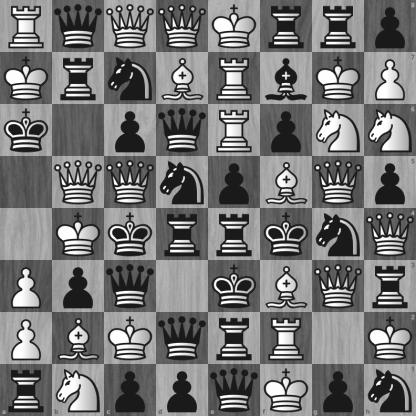B: (53, 313, 104, 364), (157, 53, 208, 104), (261, 157, 312, 208), (261, 261, 312, 312)
K: (260, 364, 312, 416), (364, 312, 416, 364), (1, 53, 52, 104), (53, 209, 104, 260), (105, 313, 156, 364), (209, 1, 260, 52), (313, 53, 364, 104)
N: (52, 364, 104, 416), (364, 104, 416, 156), (313, 105, 364, 156)
P: (364, 52, 416, 104), (1, 261, 52, 312), (1, 313, 52, 364)
Q: (364, 209, 416, 260), (53, 157, 104, 208), (105, 1, 156, 52), (105, 157, 156, 208), (157, 1, 208, 52), (313, 157, 364, 208), (313, 261, 364, 312)
R: (1, 1, 52, 52), (209, 53, 260, 104), (209, 105, 260, 156), (261, 313, 312, 364)
b: (261, 53, 312, 104)
board: (0, 0, 415, 415)
k: (1, 105, 52, 156), (105, 209, 156, 260), (209, 261, 260, 312), (261, 209, 312, 260)
n: (364, 364, 416, 416), (105, 53, 156, 104), (157, 157, 208, 208), (313, 209, 364, 260)
p: (156, 364, 209, 416), (364, 156, 416, 209), (104, 364, 156, 416), (312, 364, 364, 416), (364, 0, 416, 52), (53, 261, 104, 312), (105, 105, 156, 156), (209, 157, 260, 208), (261, 105, 312, 156)
q: (209, 364, 260, 416), (53, 1, 104, 52), (105, 261, 156, 312), (157, 105, 208, 156), (157, 313, 208, 364)
r: (0, 364, 52, 416), (364, 260, 416, 312), (53, 53, 104, 104), (157, 209, 208, 260), (209, 209, 260, 260), (209, 313, 260, 364), (261, 1, 312, 52), (313, 1, 364, 52)
